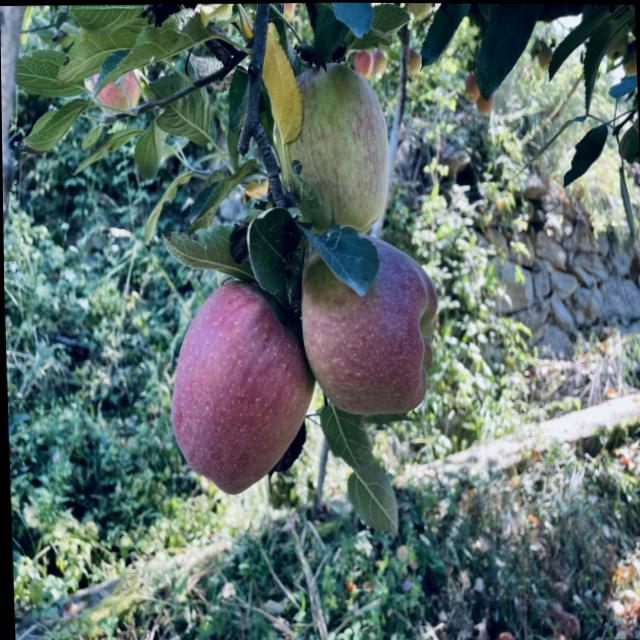Apple: (169, 281, 313, 493), (300, 238, 436, 414), (278, 62, 388, 232)
